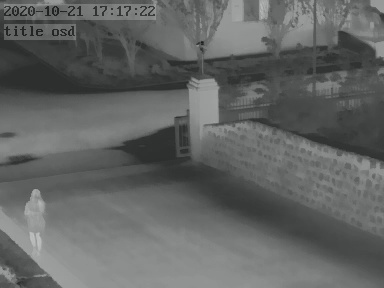person: (24, 187, 47, 255)
